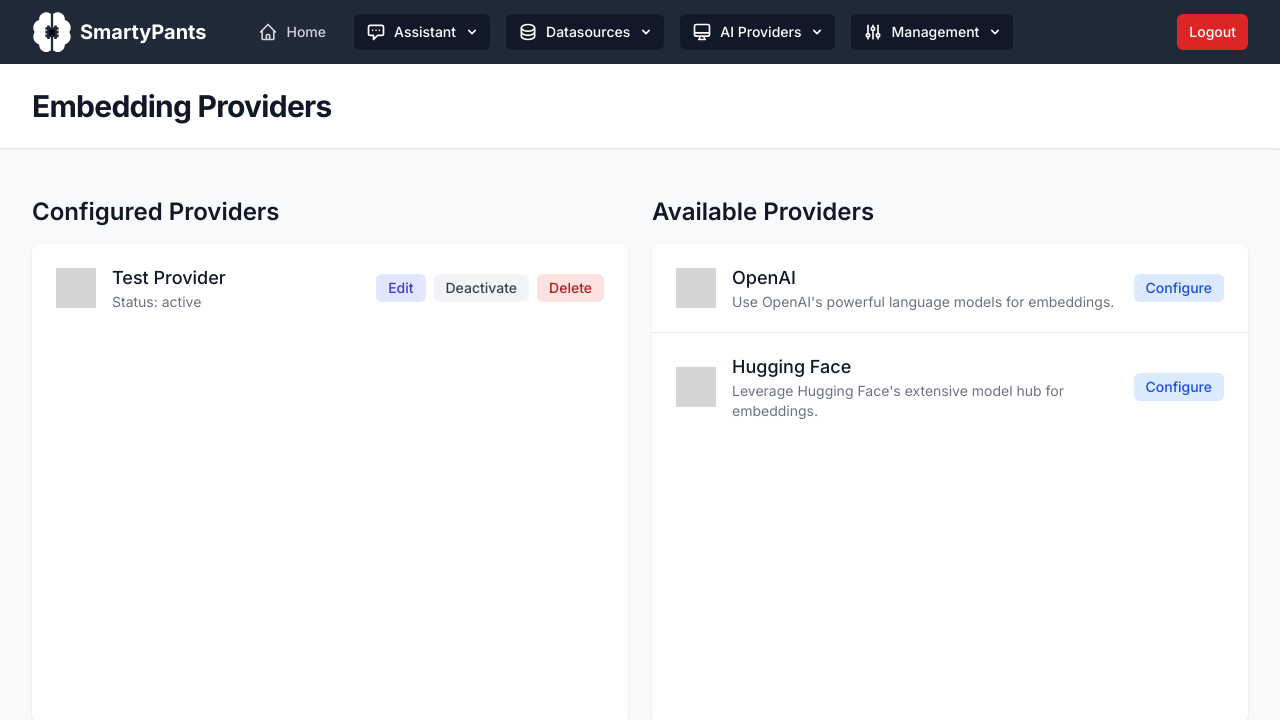
Test: EmbeddingProvidersPage › handles API error on delete
The width and height of the screenshot is (1280, 720).
Check: the heading "Test Provider" is shown, box [112, 264, 226, 292]
Click the button "Delete".
click(571, 288)  # box [537, 274, 604, 302]
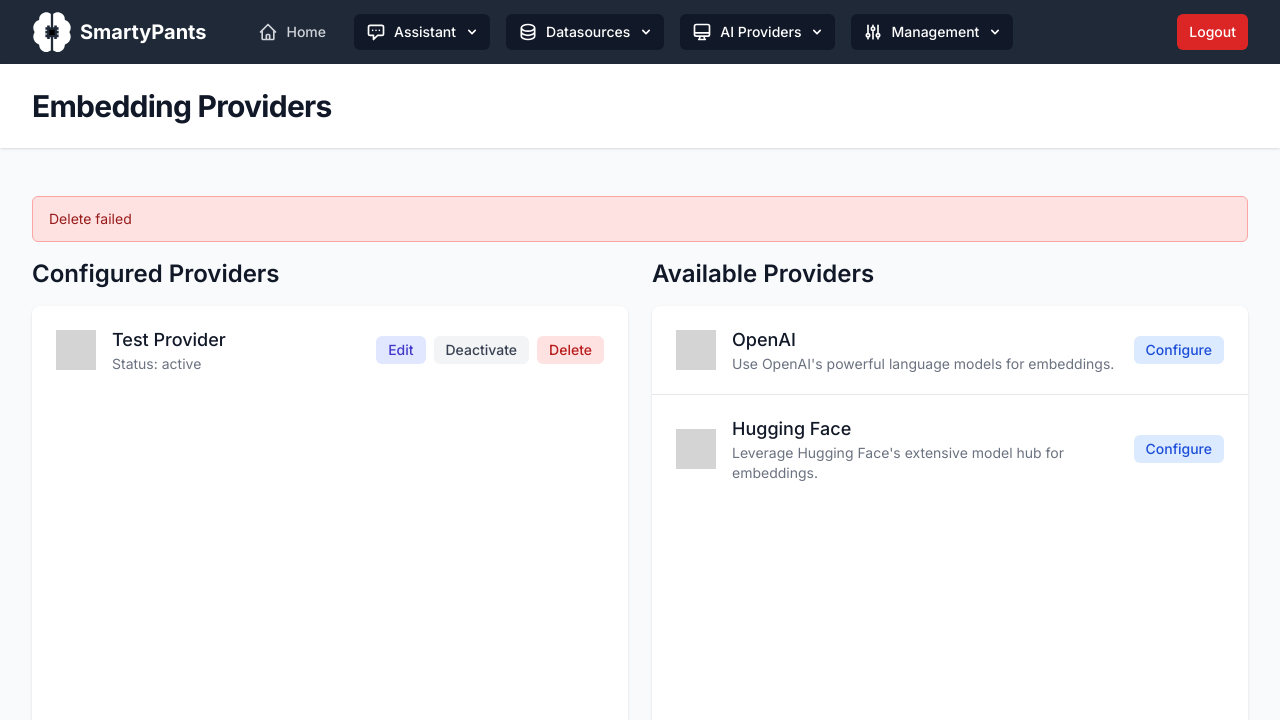
Check: the text "Delete failed" is shown, box [49, 210, 132, 227]
